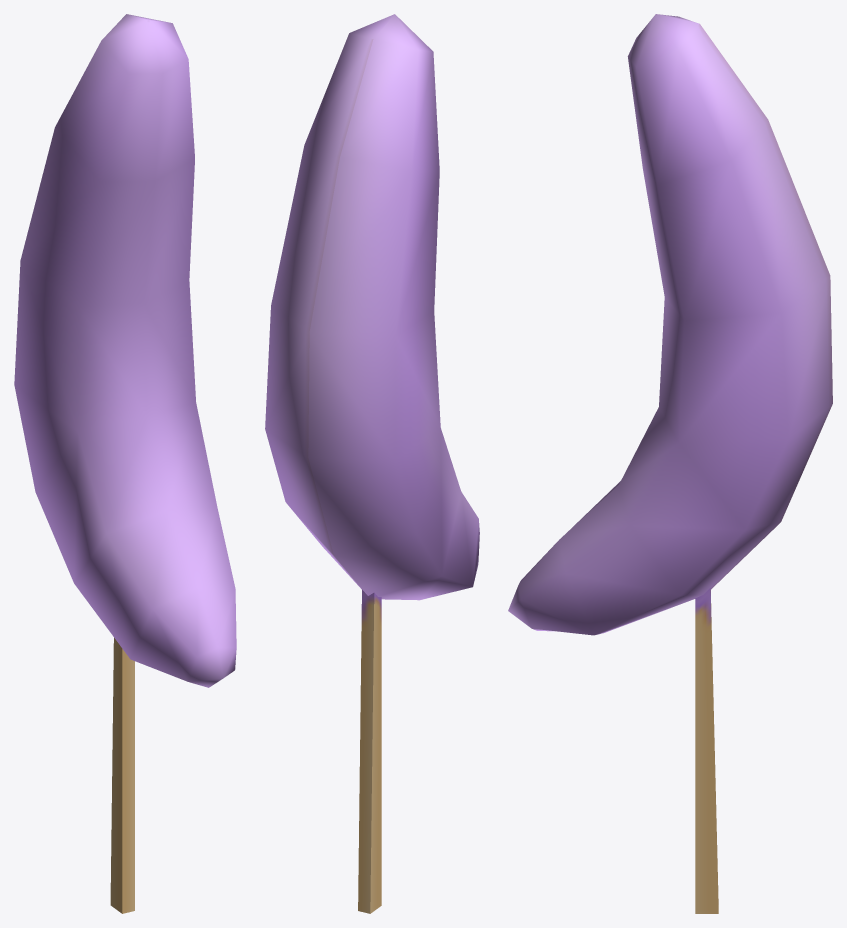
File: jsf_ChocolateBanana_a01_c04.fbx
The picture shows the model from 3 angles, left to right: view 1: azimuth 30°, elevation 25°; view 2: azimuth 150°, elevation 25°; view 3: azimuth 270°, elevation 25°; orthographic projection. The views are drawn at different scales.
Visible parts, largest first — view 1: jsf_ChocolateBanana_a01_c04; view 2: jsf_ChocolateBanana_a01_c04; view 3: jsf_ChocolateBanana_a01_c04.
Part boxes in pixels (left/top/right/bottom): jsf_ChocolateBanana_a01_c04: left=14, top=14, right=236, bottom=913; jsf_ChocolateBanana_a01_c04: left=265, top=14, right=479, bottom=913; jsf_ChocolateBanana_a01_c04: left=508, top=14, right=832, bottom=913.
Bounding box in the file's own units: 3.73 × 23.83 × 7.83.
